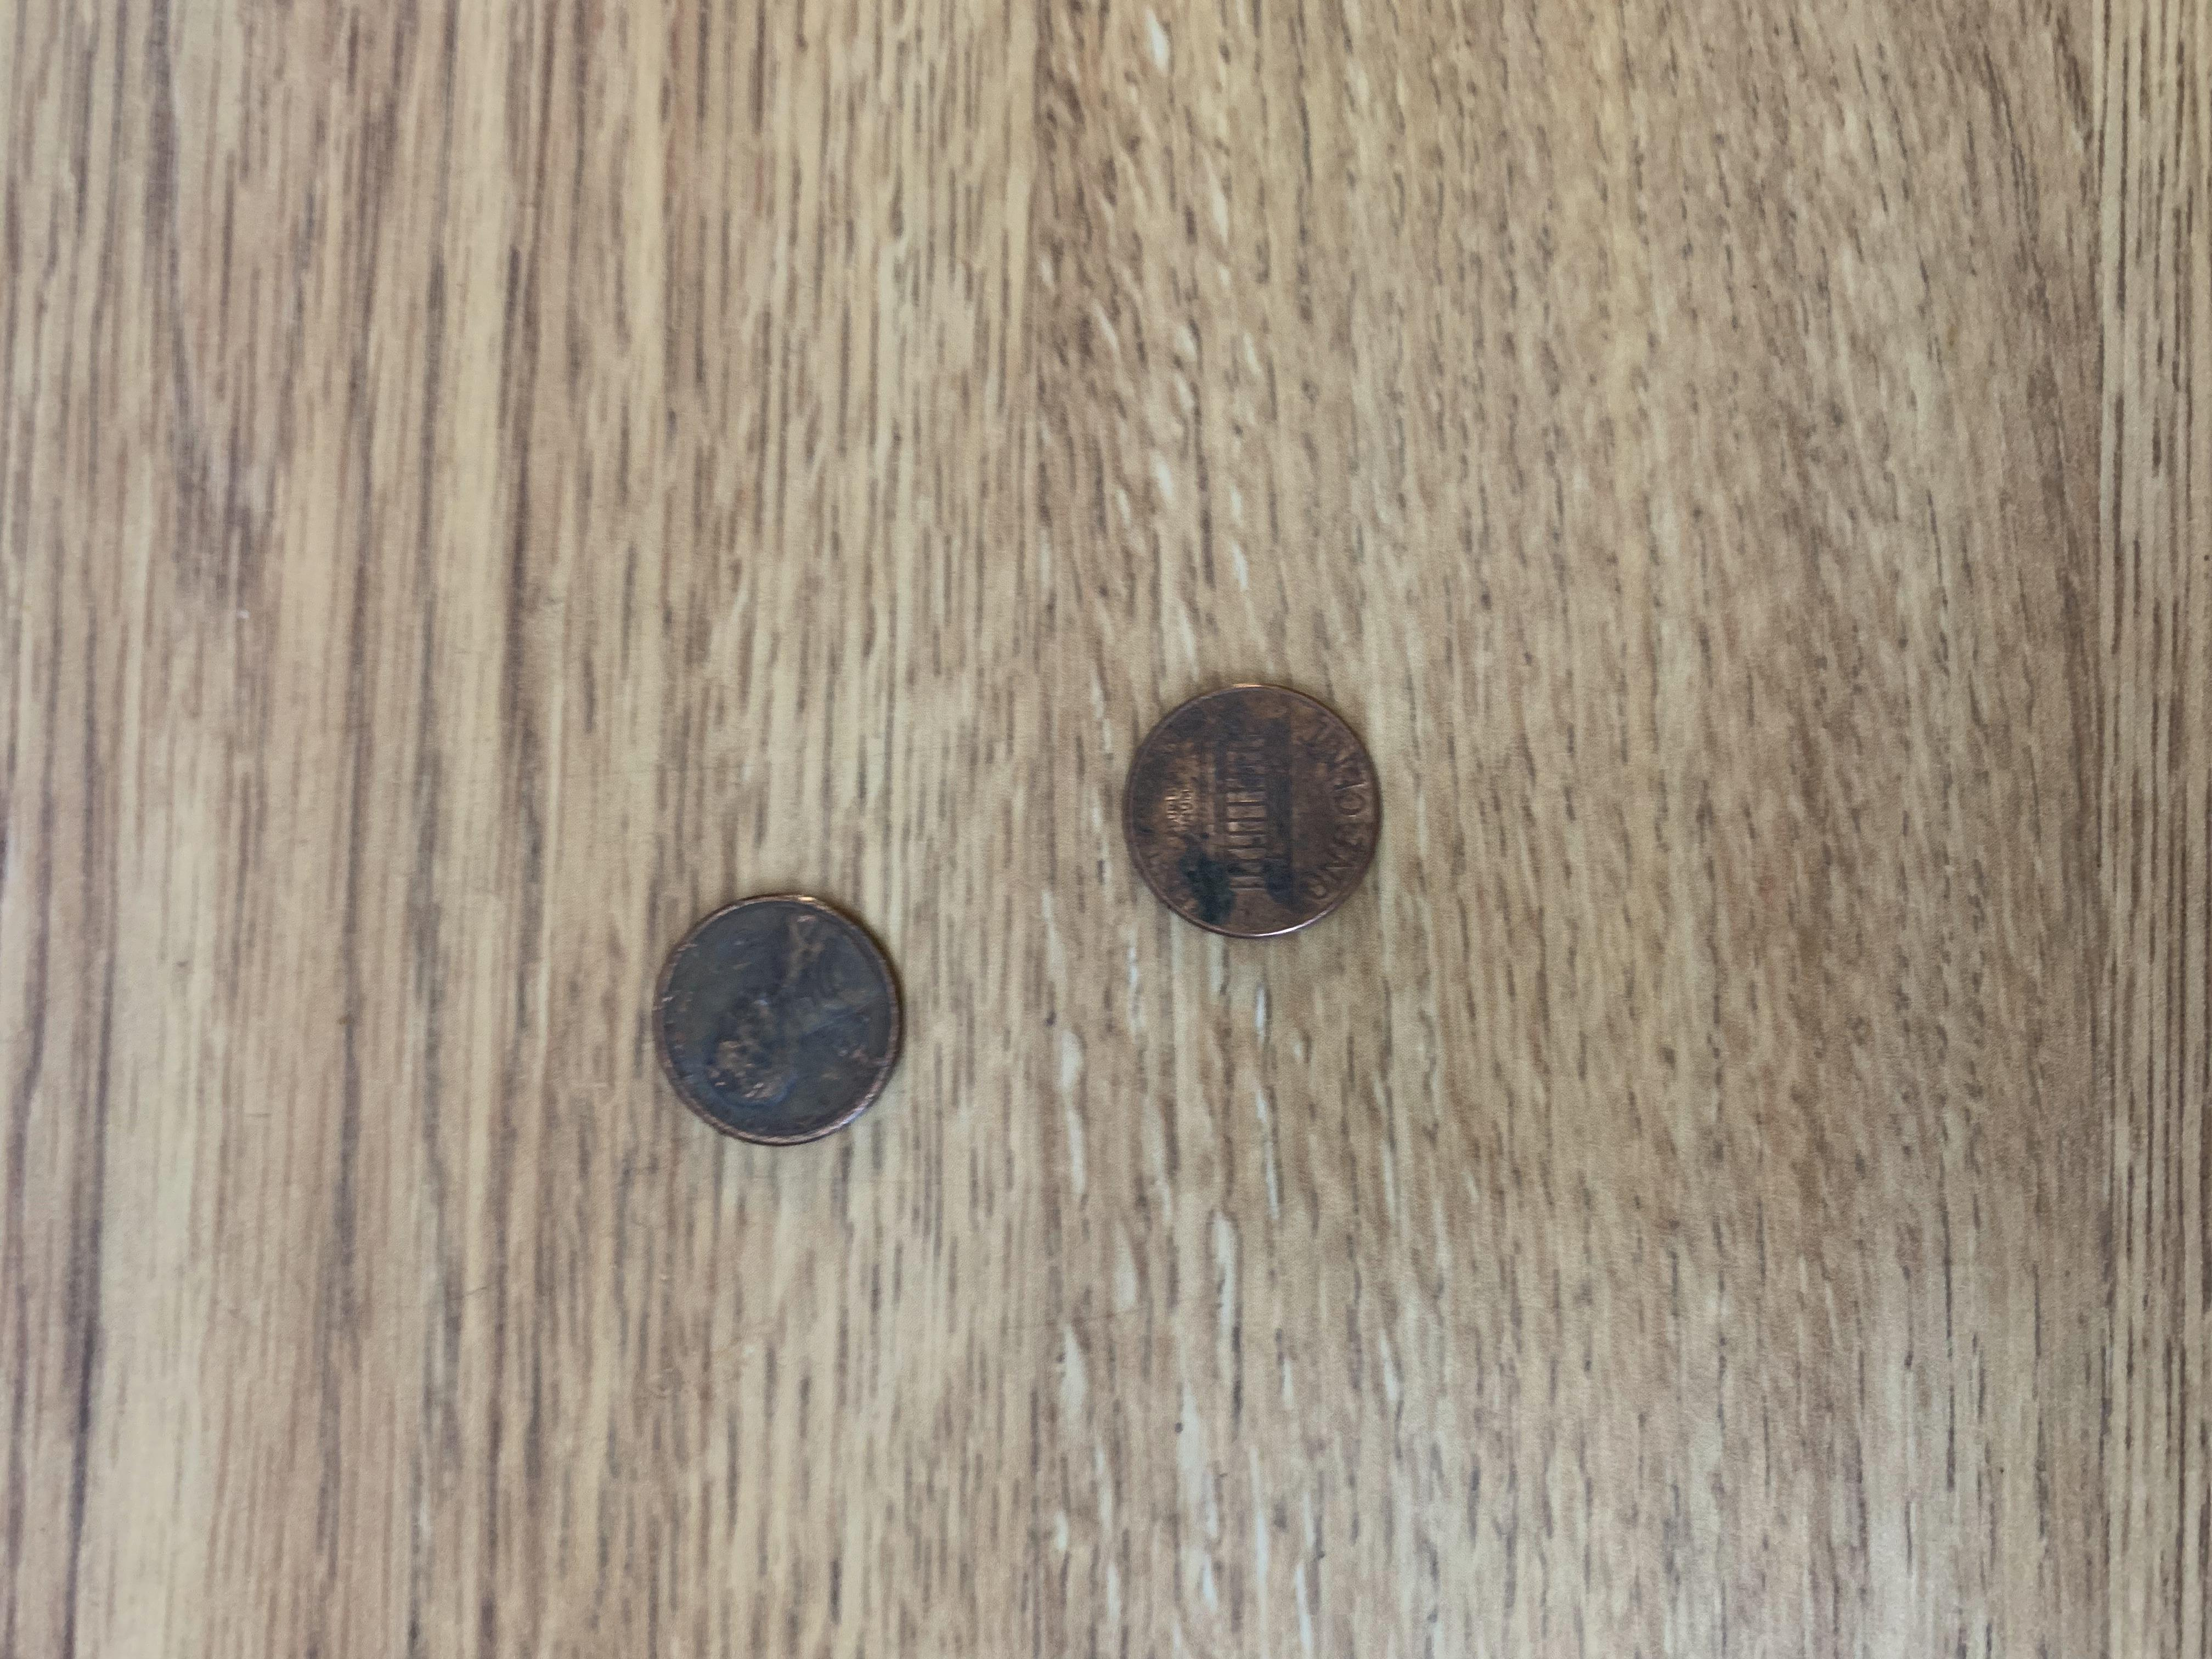Penny: (1113, 673, 1395, 957), (639, 878, 911, 1161)
